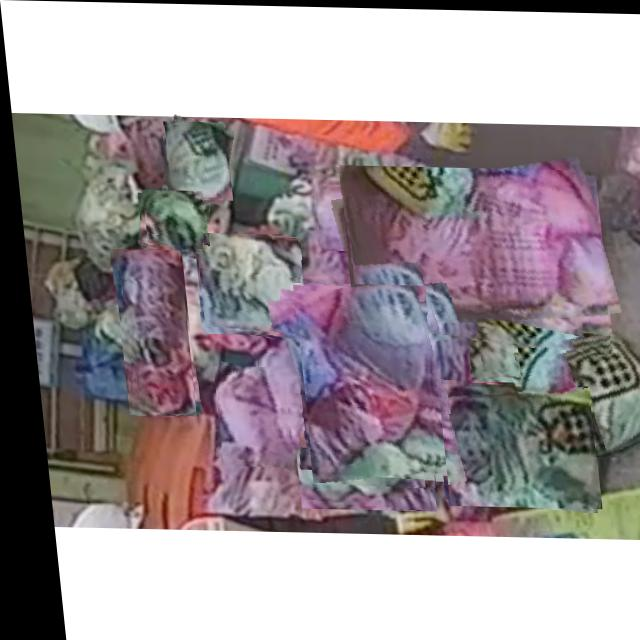general_trashbag: (434, 390, 585, 505), (515, 333, 640, 455), (465, 279, 569, 379), (191, 232, 293, 329), (287, 434, 420, 502), (163, 123, 223, 195), (139, 190, 198, 252)
other_trashbag: (336, 167, 594, 331), (298, 283, 420, 484), (115, 250, 181, 413), (250, 337, 318, 448), (208, 366, 280, 467), (312, 181, 398, 250)
